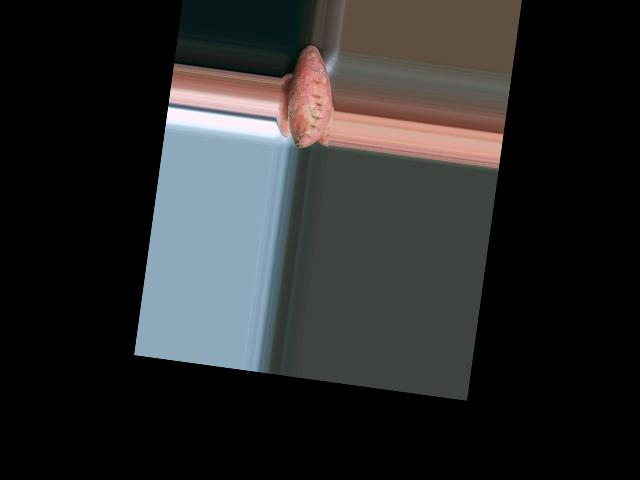sweet_potato: (286, 44, 336, 151)
